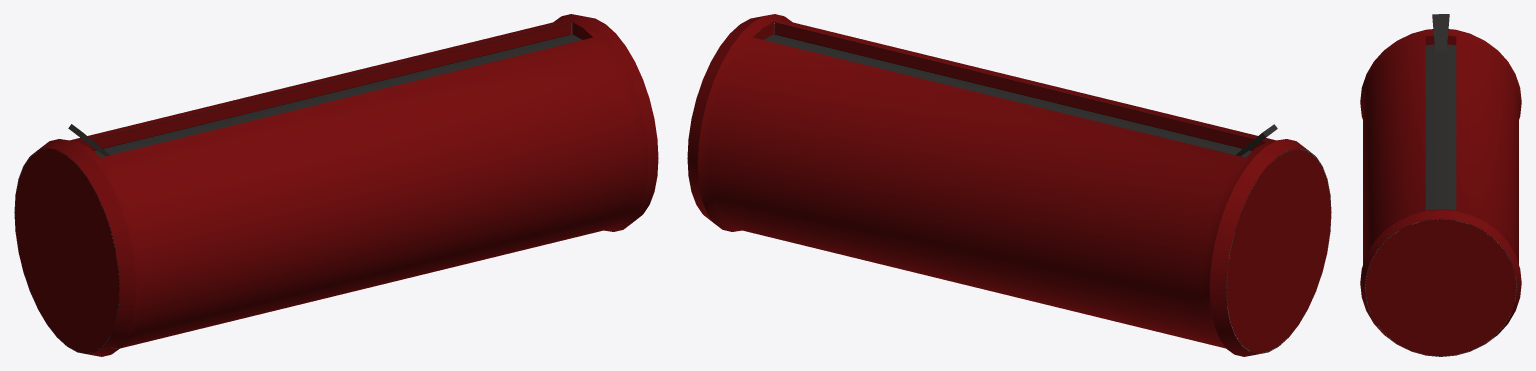
File: EstucheEpico.fbx
The picture shows the model from 3 angles, left to right: view 1: azimuth 30°, elevation 25°; view 2: azimuth 150°, elevation 25°; view 3: azimuth 270°, elevation 25°; orthographic projection. The views are drawn at different scales.
Parts seen in each view (by area): view 1: Cilindro; view 2: Cilindro; view 3: Cilindro.
Part boxes in pixels (x1=…): Cilindro: x1=14, y1=14, x2=658, y2=356; Cilindro: x1=687, y1=14, x2=1331, y2=356; Cilindro: x1=1360, y1=14, x2=1521, y2=356.
Size of the model in its own units: 104 by 40.81 by 37.25.
Materials: 1 (1 with a texture image).
